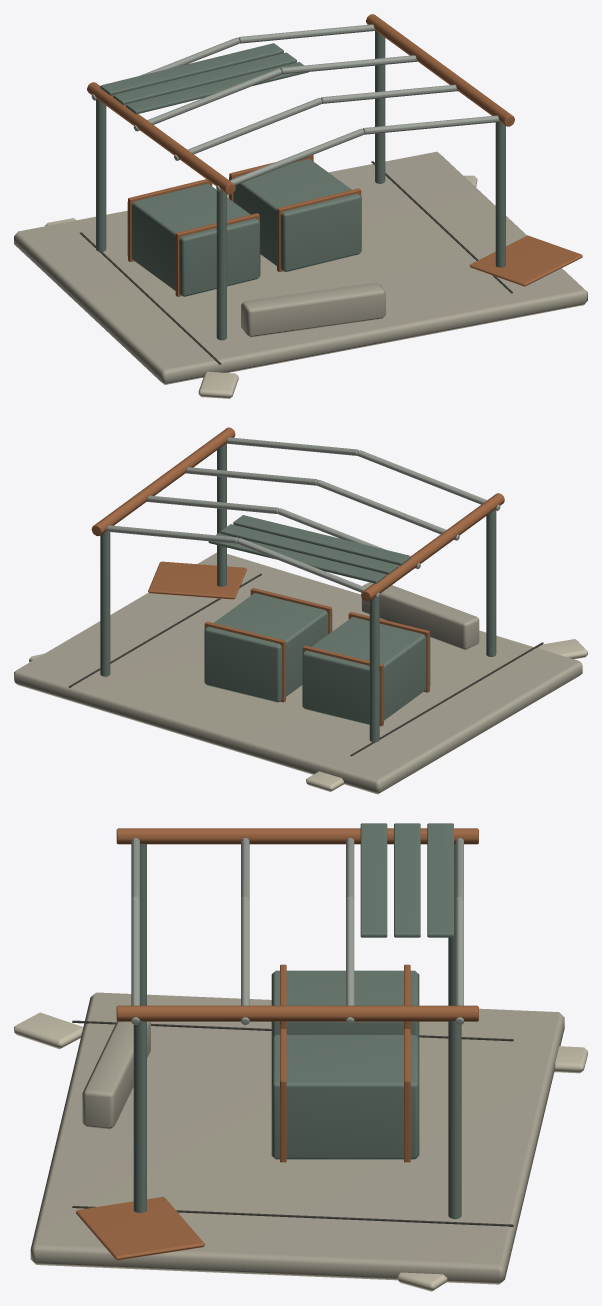
File: RuinedTransferBay.glb
3 views of the same model, one above another, from view 1: azimuth 30°, elevation 25°; view 2: azimuth 150°, elevation 25°; view 3: azimuth 270°, elevation 25° (orthographic). The views are drawn at different scales.
Parts seen in each view (by area): view 1: Sand buried service pad.001, Abandoned freight crate, Abandoned freight crate.001, Collapsed wall, Torn roof sheet, Remaining corrugated roof.002, Remaining corrugated roof.001, Roof side girder.001, Roof side girder, Remaining corrugated roof, Loading canopy upright.001, Loading canopy upright (+14 smaller); view 2: Sand buried service pad.001, Abandoned freight crate.001, Abandoned freight crate, Collapsed wall, Torn roof sheet, Remaining corrugated roof, Remaining corrugated roof.001, Roof side girder.001, Roof side girder, Remaining corrugated roof.002, Loading canopy upright, Loading canopy upright.003 (+17 smaller); view 3: Sand buried service pad.001, Abandoned freight crate.001, Abandoned freight crate, Roof side girder.001, Torn roof sheet, Roof side girder, Collapsed wall, Remaining corrugated roof, Remaining corrugated roof.001, Remaining corrugated roof.002, Loading canopy upright.003, Loading canopy upright.002 (+13 smaller).
Part boxes in pixels (x1,y1,x2,y2): Sand buried service pad.001: (14, 151, 587, 384); Abandoned freight crate: (127, 183, 260, 296); Abandoned freight crate.001: (229, 159, 361, 272); Collapsed wall: (241, 282, 385, 337); Torn roof sheet: (469, 235, 582, 286); Remaining corrugated roof.002: (100, 43, 283, 95); Remaining corrugated roof.001: (113, 52, 296, 104); Roof side girder.001: (366, 14, 514, 126); Roof side girder: (87, 82, 235, 194); Remaining corrugated roof: (126, 62, 308, 114); Loading canopy upright.001: (96, 99, 106, 251); Loading canopy upright: (216, 190, 226, 340); Sand buried service pad.001: (14, 552, 582, 794); Abandoned freight crate.001: (204, 593, 332, 702); Abandoned freight crate: (302, 617, 430, 724); Collapsed wall: (361, 582, 479, 650); Torn roof sheet: (148, 561, 246, 599); Remaining corrugated roof: (233, 515, 410, 565); Remaining corrugated roof.001: (221, 524, 398, 574); Roof side girder.001: (91, 427, 235, 536); Roof side girder: (361, 493, 504, 601); Remaining corrugated roof.002: (208, 533, 385, 583); Loading canopy upright: (486, 509, 496, 656); Loading canopy upright.003: (100, 531, 110, 676); Sand buried service pad.001: (30, 992, 564, 1284); Abandoned freight crate.001: (271, 1035, 419, 1159); Abandoned freight crate: (271, 970, 419, 1038); Roof side girder.001: (116, 1005, 478, 1021); Torn roof sheet: (76, 1196, 204, 1260); Roof side girder: (116, 828, 478, 844); Collapsed wall: (82, 1021, 150, 1129); Remaining corrugated roof: (360, 823, 387, 937); Remaining corrugated roof.001: (394, 823, 420, 937); Remaining corrugated roof.002: (427, 823, 453, 937); Loading canopy upright.003: (448, 1020, 461, 1219); Loading canopy upright.002: (133, 1020, 146, 1212).
Size of the model in its own units: 7.01 by 2.91 by 6.02.
